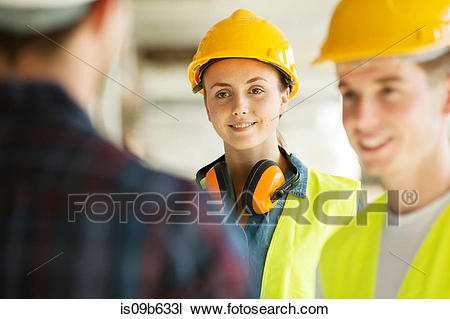Person_wearing_helmet: (178, 13, 295, 110)
